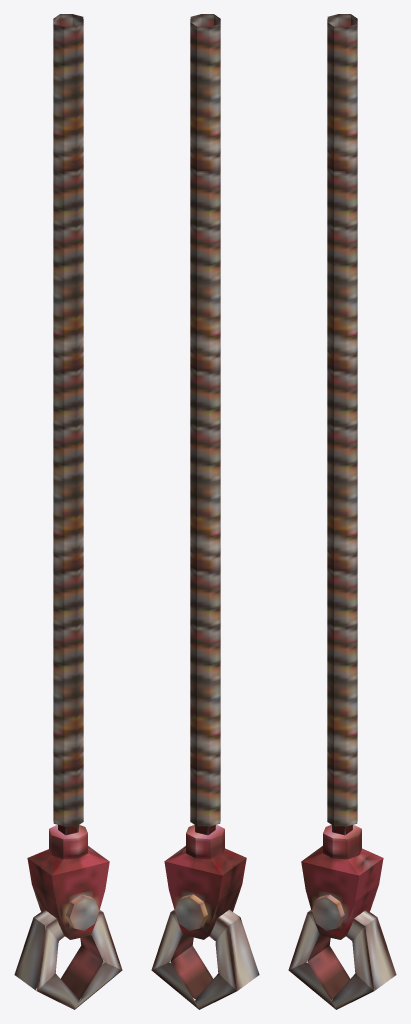
The model's file is Poly_SF_Outside_B_Rope_01.obj.
3 renders of one model, left to right at view 1: azimuth 30°, elevation 25°; view 2: azimuth 150°, elevation 25°; view 3: azimuth 330°, elevation 25°, orthographic.
Parts seen in each view (by area): view 1: Cube_Cube.001, Cube.004, Cube.002, Cube.003; view 2: Cube_Cube.001, Cube.004, Cube.002, Cube.003; view 3: Cube_Cube.001, Cube.004, Cube.002, Cube.003.
Part boxes in pixels (x1,y1,x2,y2): Cube_Cube.001: [53, 14, 83, 826]; Cube.004: [14, 909, 122, 1009]; Cube.002: [27, 824, 109, 939]; Cube.003: [66, 894, 99, 930]; Cube_Cube.001: [190, 14, 220, 826]; Cube.004: [151, 909, 259, 1009]; Cube.002: [164, 824, 246, 939]; Cube.003: [174, 894, 207, 930]; Cube_Cube.001: [327, 14, 357, 826]; Cube.004: [288, 909, 396, 1009]; Cube.002: [301, 824, 383, 939]; Cube.003: [311, 894, 344, 930].
Bounding box in the file's own units: 0.2605 × 2.86 × 0.1692.
1 material, 1 textured.
